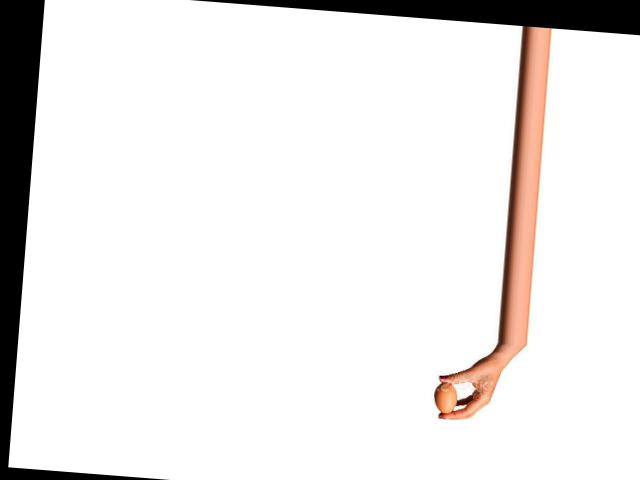egg: (434, 381, 458, 413)
